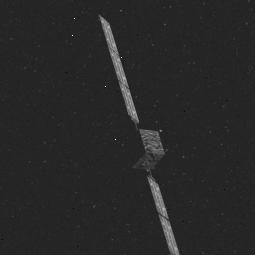smart_1: (90, 19, 186, 253)
